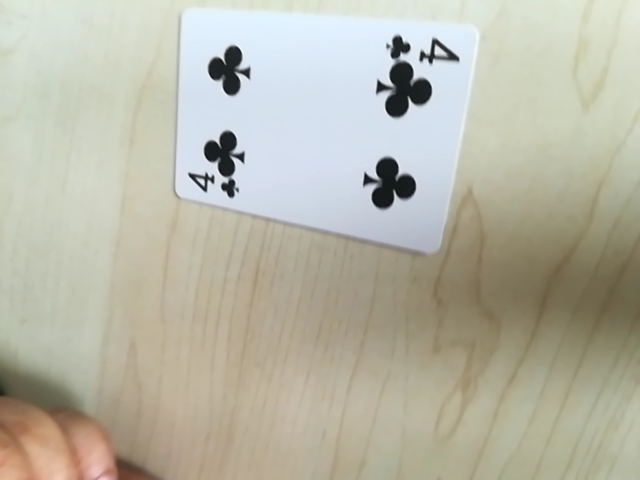mh 4: (386, 28, 460, 65), (184, 167, 243, 200)
